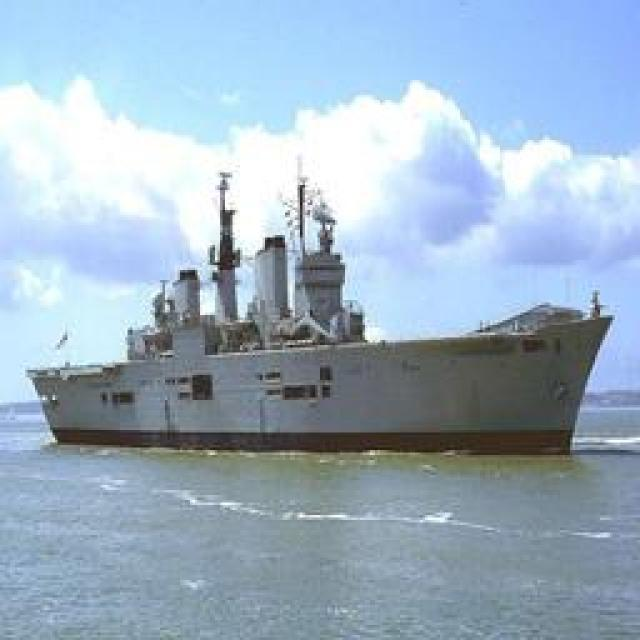CIV_Ship: (26, 288, 614, 454)
